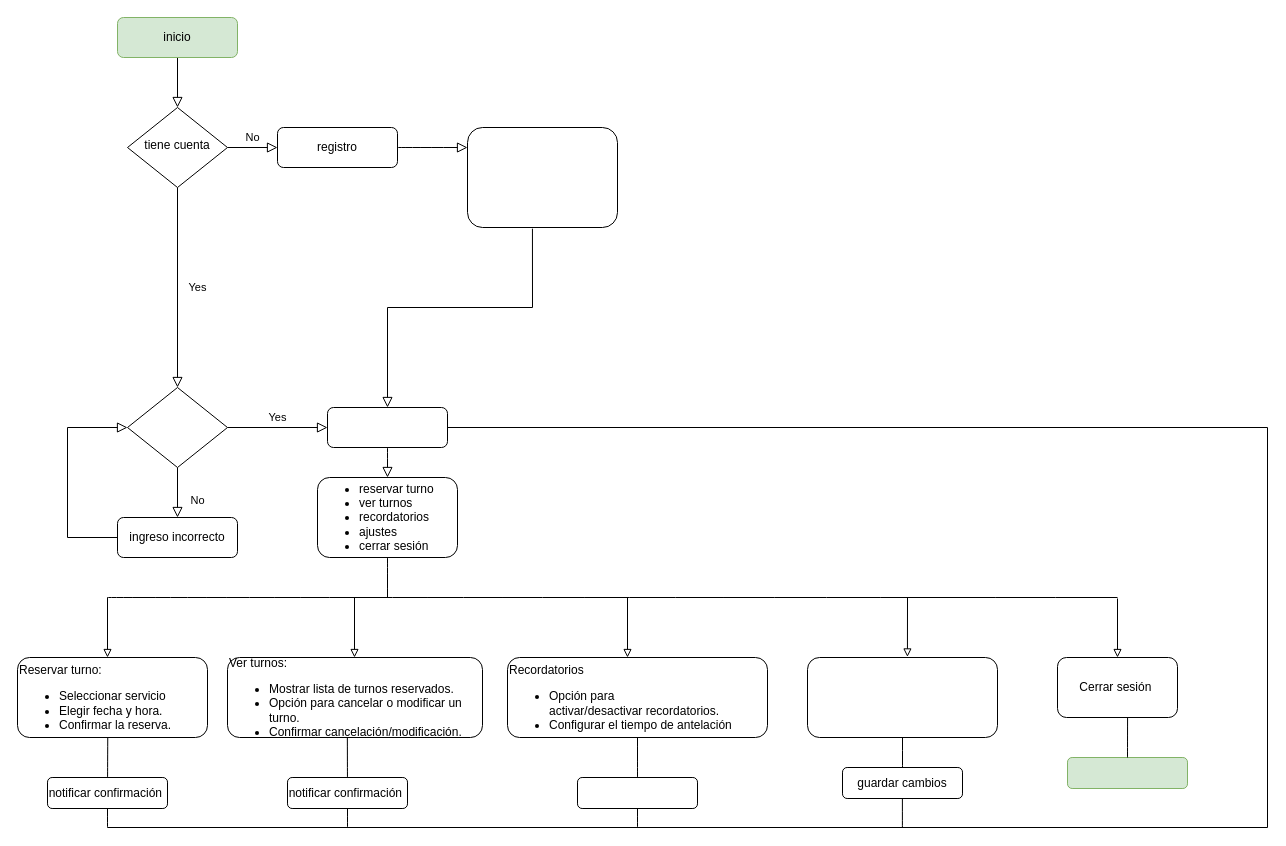
The diagram is 1286 pixels wide and 846 high, and some of its shapes have lost their labels. The box of each missing label's shape, as (x1, y1, x2, y2) in pixels:
Ajustes cambiar datos personales cambiar contraseña: (806, 656, 998, 738)
FIN DEL PROCESO: (1066, 756, 1188, 788)
guardar configuración: (576, 776, 698, 808)
ingresar credenciales: (126, 386, 228, 468)
ingresar datos personales crear contraseña confirmar: (466, 126, 618, 228)
pantalla inicio: (326, 406, 448, 448)
